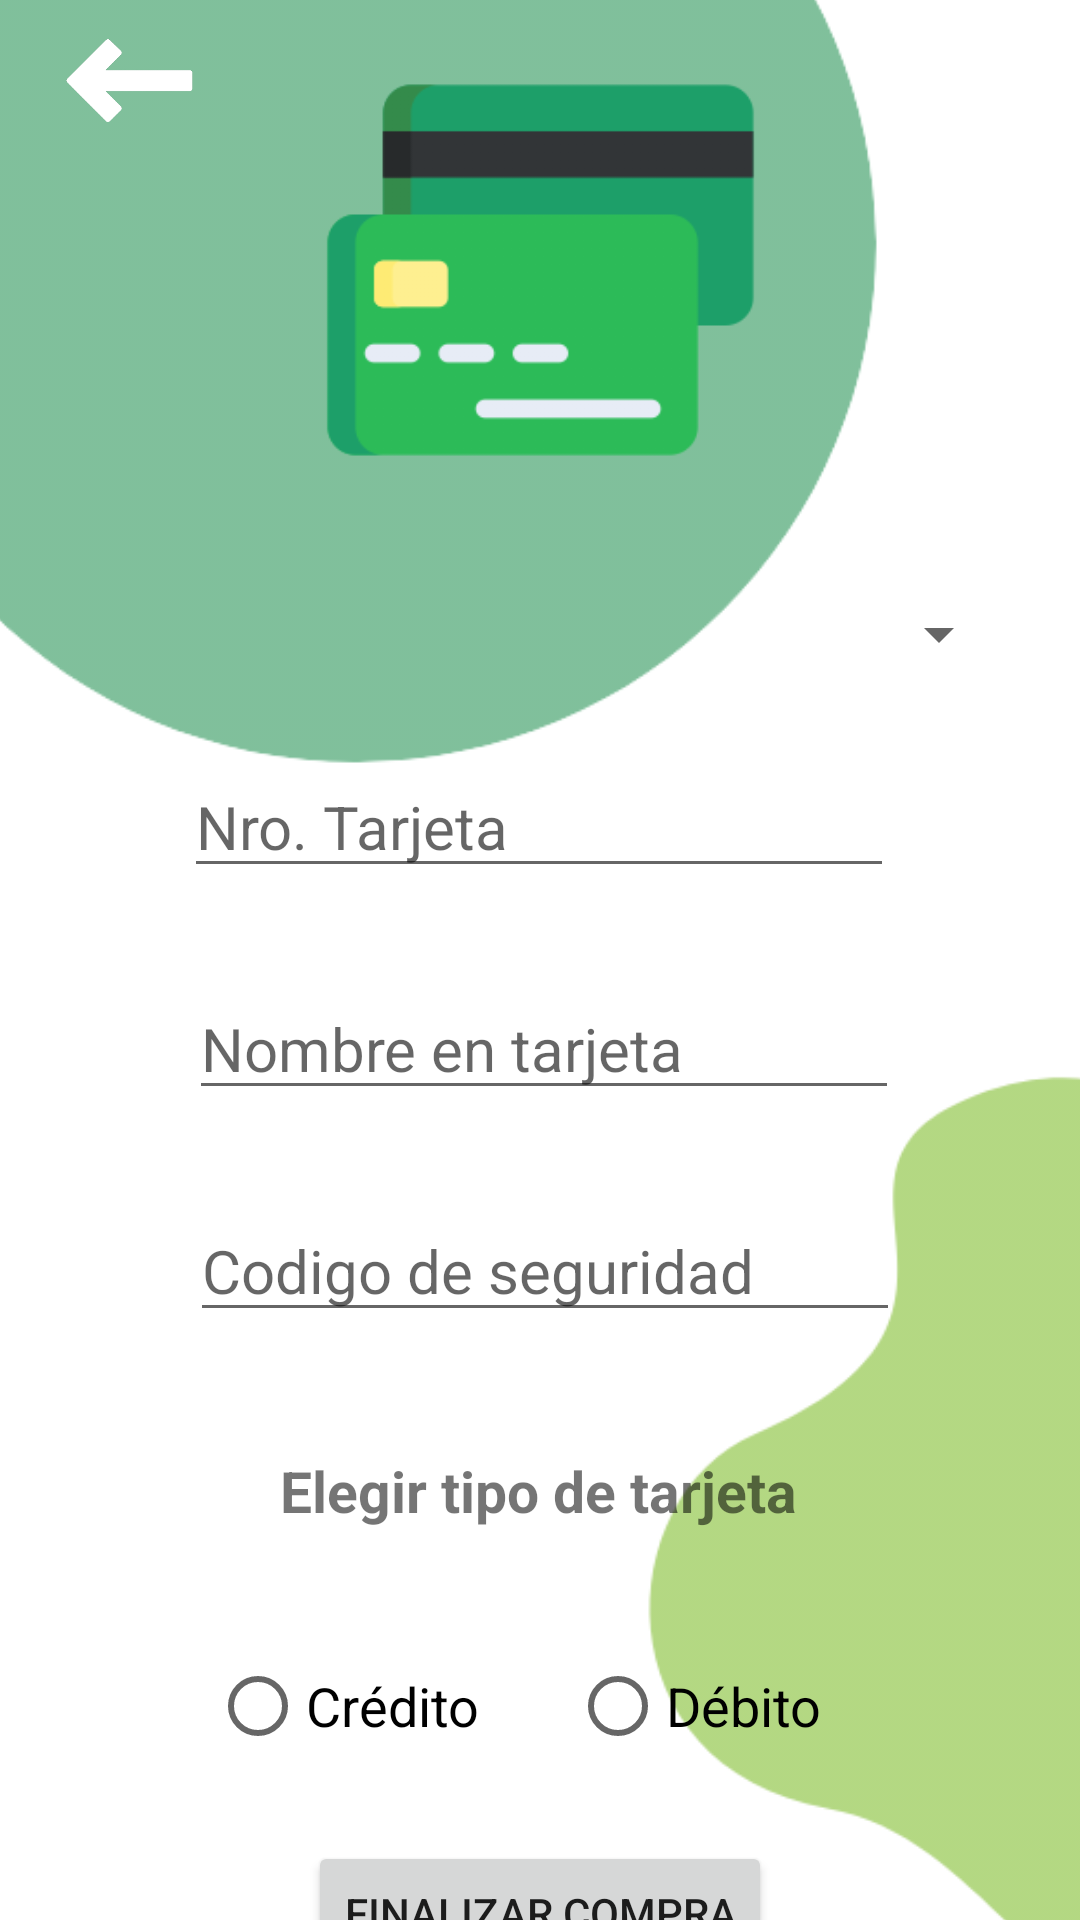

Point at icon controls on the screen. Image size 1080x1920, points as (x=x, y=y).
arrowback: (x=129, y=80)
